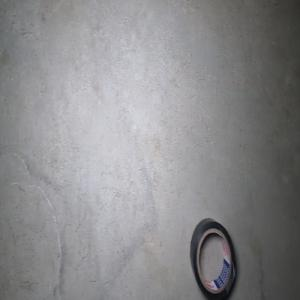Tape: (190, 217, 237, 300)
